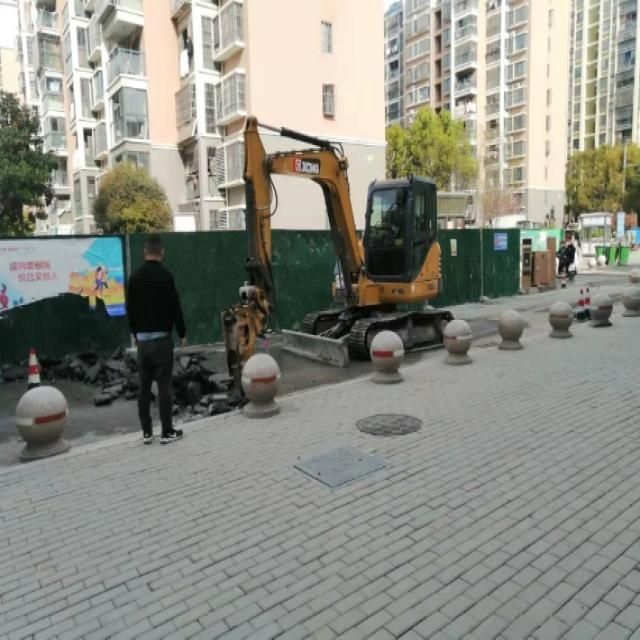Good: (290, 445, 388, 491), (352, 410, 427, 438)
